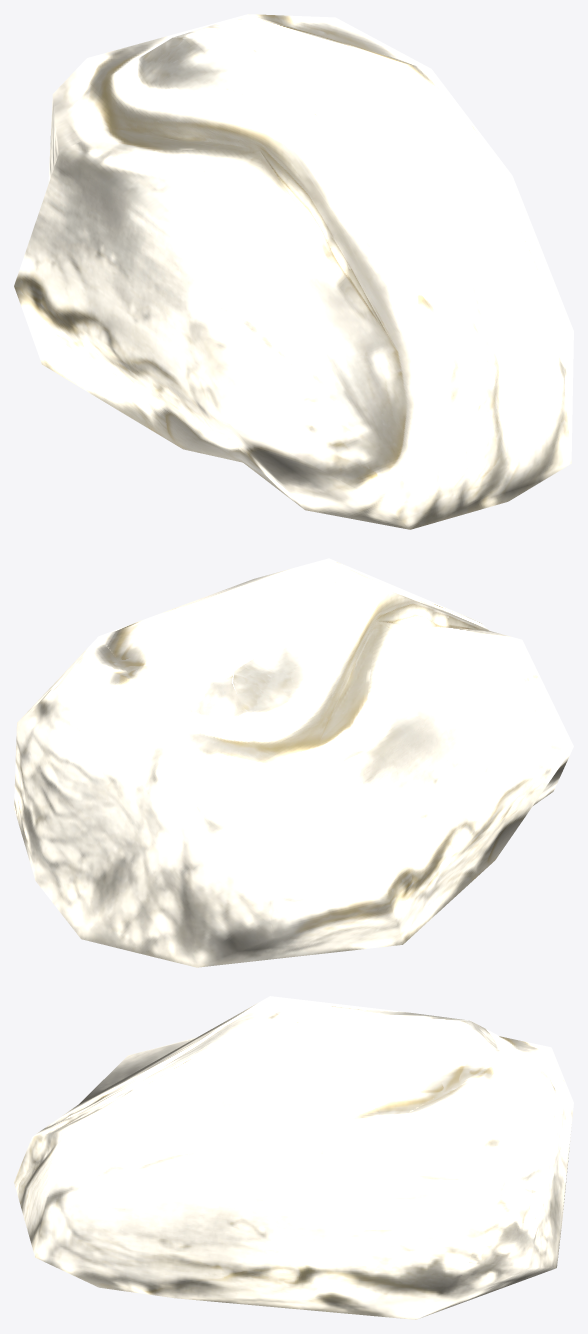
File: Meshy_AI_Whipped_Cream_Scoop_0612080006_texture.fbx
3 renders of one model, top to bottom at view 1: azimuth 30°, elevation 25°; view 2: azimuth 150°, elevation 25°; view 3: azimuth 270°, elevation 25°, orthographic. The views are drawn at different scales.
Visible parts, largest first — view 1: Mesh_0; view 2: Mesh_0; view 3: Mesh_0.
Boxes of the visible parts, box(x1,y1,x2,y2) form: Mesh_0: box(14, 14, 573, 529); Mesh_0: box(14, 558, 573, 967); Mesh_0: box(14, 996, 573, 1319).
Bounding box in the file's own units: 123 × 87.99 × 187.
1 material, 1 textured.
